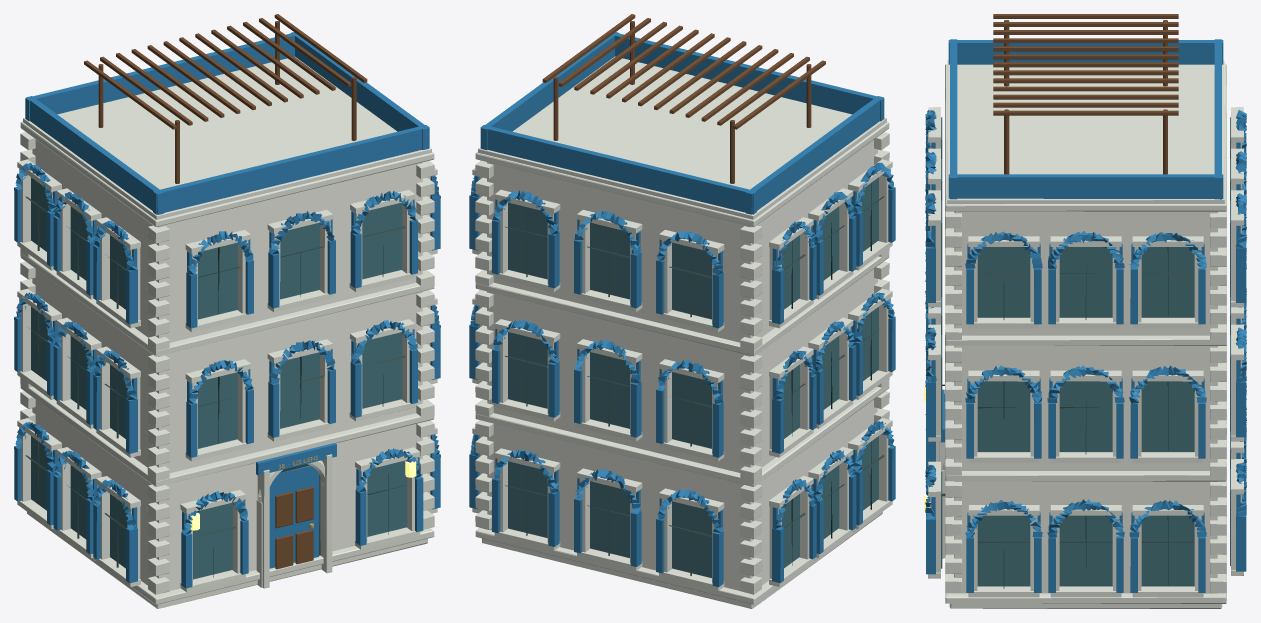
Rendered from tunisie-3-lod.glb.
3 renders of one model, left to right at view 1: azimuth 30°, elevation 25°; view 2: azimuth 150°, elevation 25°; view 3: azimuth 270°, elevation 25°, orthographic. The views are drawn at different scales.
Visible parts, largest first — view 1: tunisie-3_Dressed stone.001, tunisie-3_Regional painted wood.001, tunisie-3_Masonry plaster.001, tunisie-3_Window blue.001, tunisie-3_Walnut.001, tunisie-3_Forged midnight.001; view 2: tunisie-3_Dressed stone.001, tunisie-3_Regional painted wood.001, tunisie-3_Masonry plaster.001, tunisie-3_Window blue.001, tunisie-3_Walnut.001, tunisie-3_Forged midnight.001; view 3: tunisie-3_Dressed stone.001, tunisie-3_Regional painted wood.001, tunisie-3_Window blue.001, tunisie-3_Masonry plaster.001, tunisie-3_Walnut.001, tunisie-3_Forged midnight.001.
Boxes of the visible parts, bbox=[...] form: tunisie-3_Dressed stone.001: bbox=[17, 56, 437, 608]; tunisie-3_Regional painted wood.001: bbox=[14, 32, 440, 588]; tunisie-3_Masonry plaster.001: bbox=[32, 139, 422, 590]; tunisie-3_Window blue.001: bbox=[31, 177, 407, 579]; tunisie-3_Walnut.001: bbox=[84, 14, 367, 569]; tunisie-3_Forged midnight.001: bbox=[25, 185, 405, 577]; tunisie-3_Dressed stone.001: bbox=[472, 56, 892, 608]; tunisie-3_Regional painted wood.001: bbox=[469, 32, 895, 587]; tunisie-3_Masonry plaster.001: bbox=[487, 140, 877, 590]; tunisie-3_Window blue.001: bbox=[508, 177, 878, 577]; tunisie-3_Walnut.001: bbox=[542, 14, 825, 183]; tunisie-3_Forged midnight.001: bbox=[504, 183, 884, 575]; tunisie-3_Dressed stone.001: bbox=[928, 60, 1243, 608]; tunisie-3_Regional painted wood.001: bbox=[925, 39, 1246, 592]; tunisie-3_Window blue.001: bbox=[941, 117, 1230, 586]; tunisie-3_Masonry plaster.001: bbox=[954, 211, 1217, 593]; tunisie-3_Walnut.001: bbox=[993, 14, 1178, 174]; tunisie-3_Forged midnight.001: bbox=[942, 247, 1194, 588].
Bounding box in the file's own units: 14.2 × 19.86 × 12.2.
